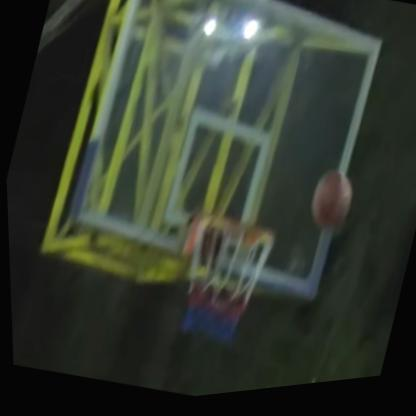basketball: (296, 164, 369, 254)
rim: (154, 198, 290, 375)
